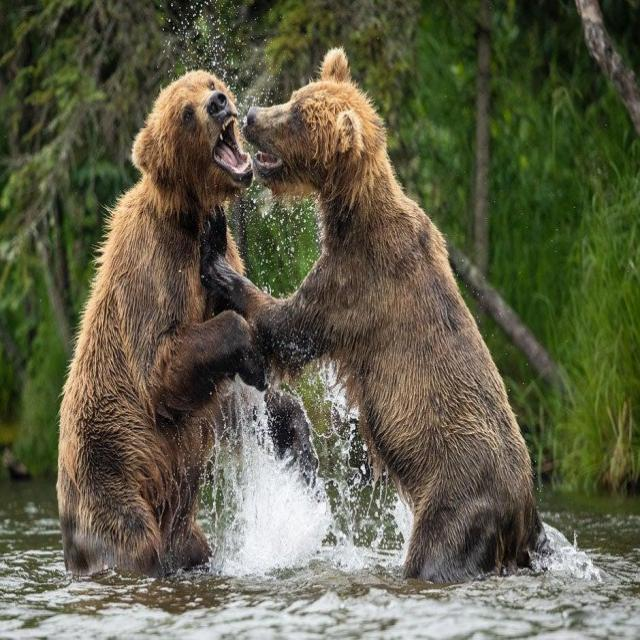Bear: (242, 49, 547, 587), (55, 72, 282, 581)
